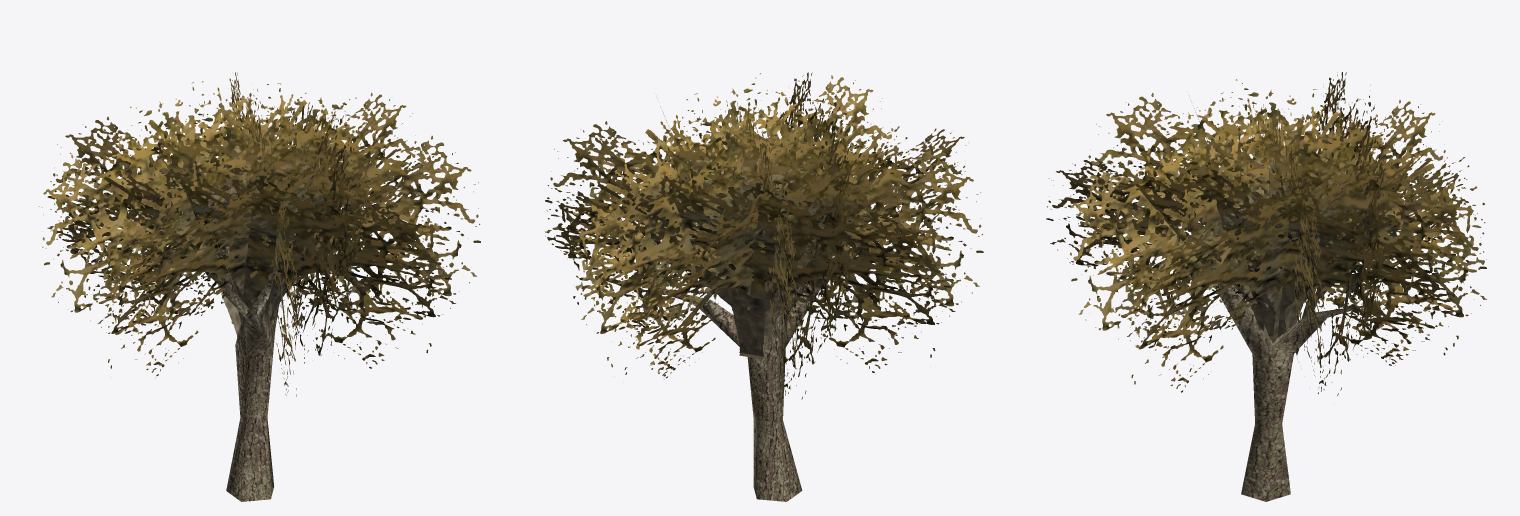
File: M12A_Tree_Solid02.glb
3 views of the same model, side by side, from view 1: azimuth 30°, elevation 25°; view 2: azimuth 150°, elevation 25°; view 3: azimuth 270°, elevation 25° (orthographic).
Visible parts, largest first — view 1: M12A_TREE_SOLID02; view 2: M12A_TREE_SOLID02; view 3: M12A_TREE_SOLID02.
Part boxes in pixels (x1,y1,x2,y2): M12A_TREE_SOLID02: (39, 72, 480, 501); M12A_TREE_SOLID02: (545, 72, 983, 501); M12A_TREE_SOLID02: (1046, 72, 1486, 501).
Size of the model in its own units: 4.27 by 3.88 by 4.35.
2 materials, 2 textured.
